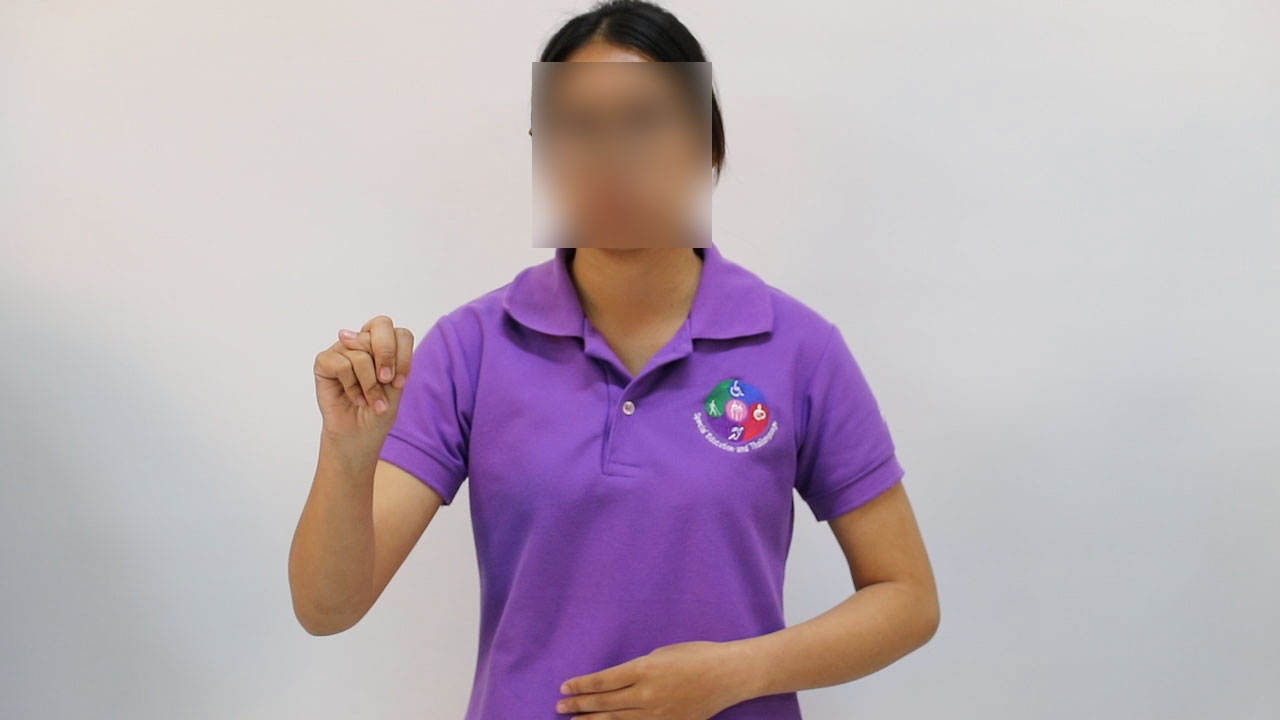nor: (302, 309, 424, 455)
